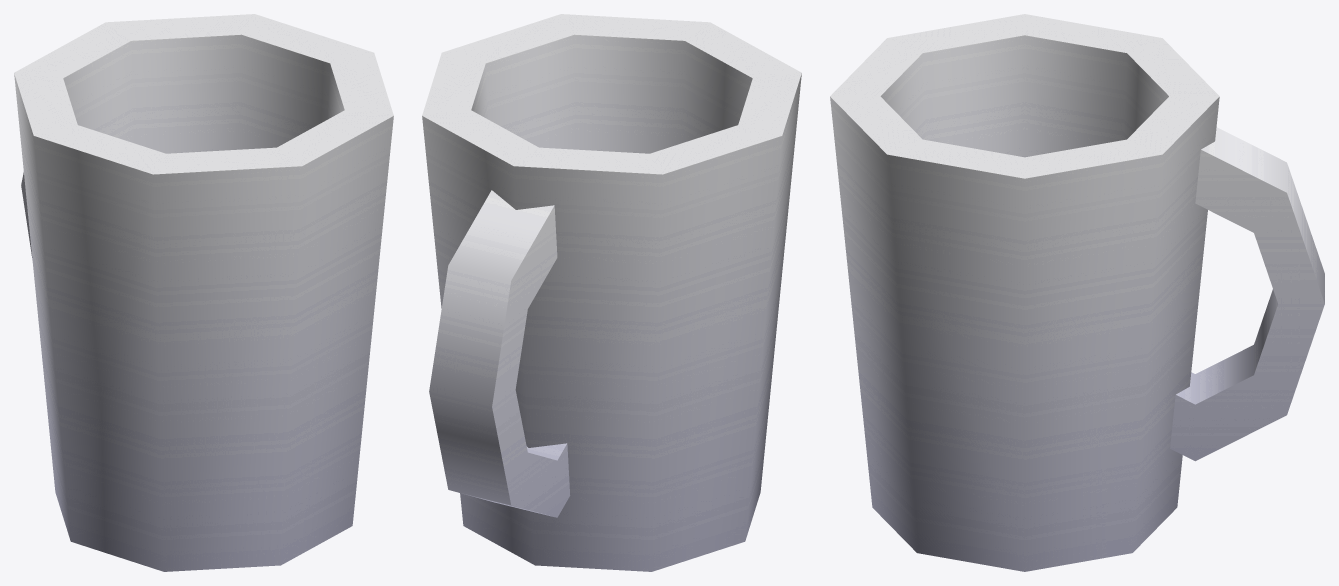
The picture shows the model from 3 angles, left to right: view 1: azimuth 30°, elevation 25°; view 2: azimuth 150°, elevation 25°; view 3: azimuth 270°, elevation 25°; orthographic projection.
Visible parts, largest first — view 1: life-cup-source; view 2: life-cup-source; view 3: life-cup-source.
Boxes of the visible parts, x1,y1,x2,y2 form: life-cup-source: (14,14,393,571); life-cup-source: (422,14,801,571); life-cup-source: (830,14,1324,571).
Bounding box in the file's own units: 0.0945 × 0.11 × 0.12.
1 material, 1 textured.
